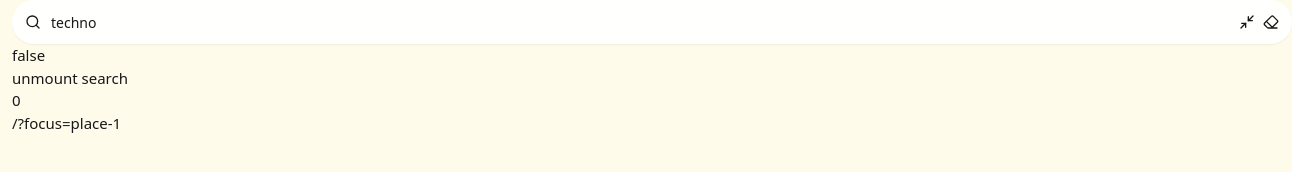
Test case: SearchBar › drops the focus parameter but keeps the query on Enter
Step 1. Click the dropdown named "Search" → (640, 22), box [49,10,1231,34]
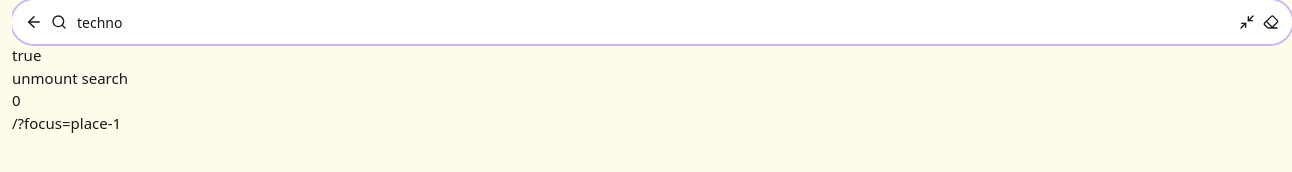
Step 2. Press Enter
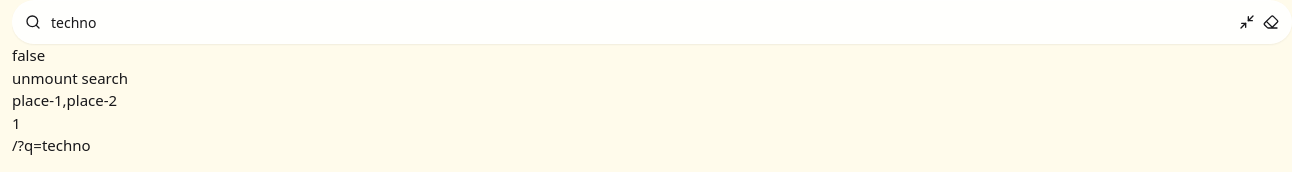
expect the text with test id "location" reads "/?q=techno": met, box [12,135,91,155]
expect the text with test id "highlight" reads "place-1,place-2": met, box [12,90,117,110]
